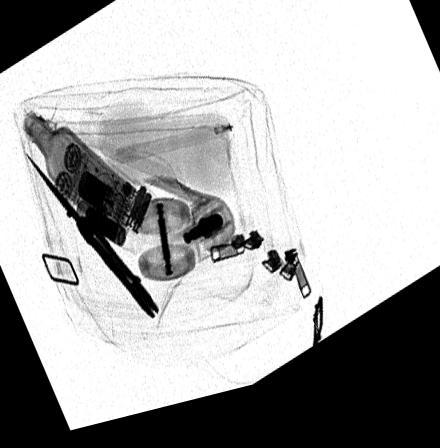Knife: (23, 155, 160, 329)
